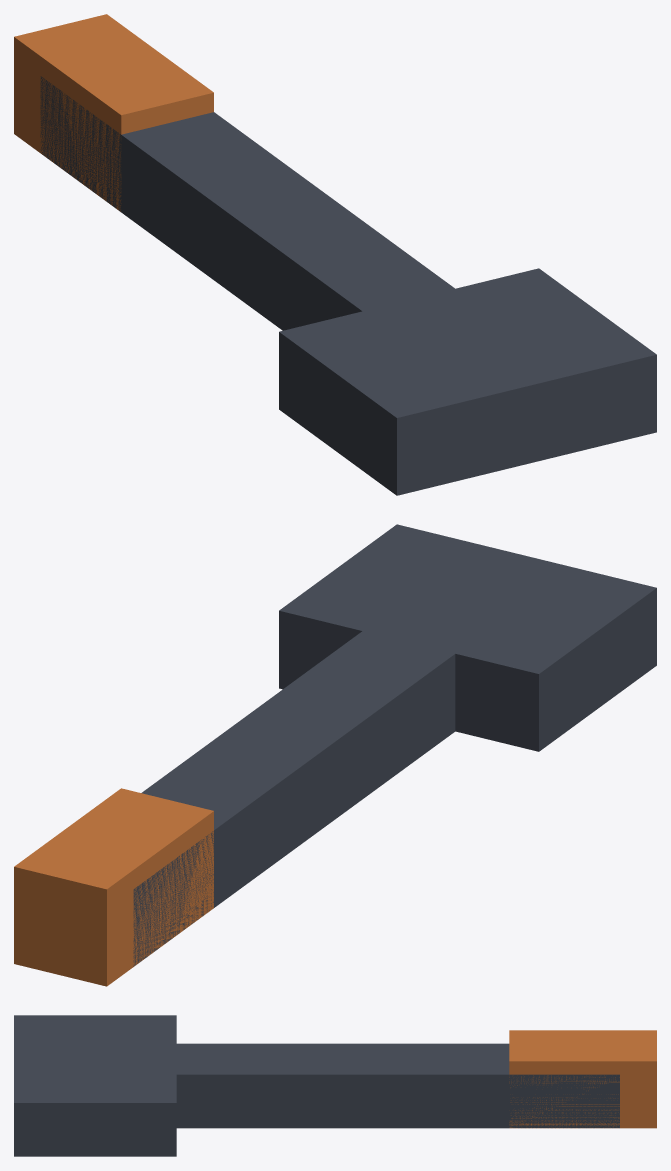
Rendered from gun_wrench.glb.
3 renders of one model, top to bottom at view 1: azimuth 30°, elevation 25°; view 2: azimuth 150°, elevation 25°; view 3: azimuth 270°, elevation 25°, orthographic. The views are drawn at different scales.
Visible parts, largest first — view 1: gun_wrench; view 2: gun_wrench; view 3: gun_wrench.
Part boxes in pixels (left/top/right/bottom): gun_wrench: left=14, top=14, right=656, bottom=495; gun_wrench: left=14, top=524, right=656, bottom=986; gun_wrench: left=14, top=1015, right=656, bottom=1156.
Size of the model in its own units: 0.28 by 0.1 by 0.87.
1 material, 1 textured.
